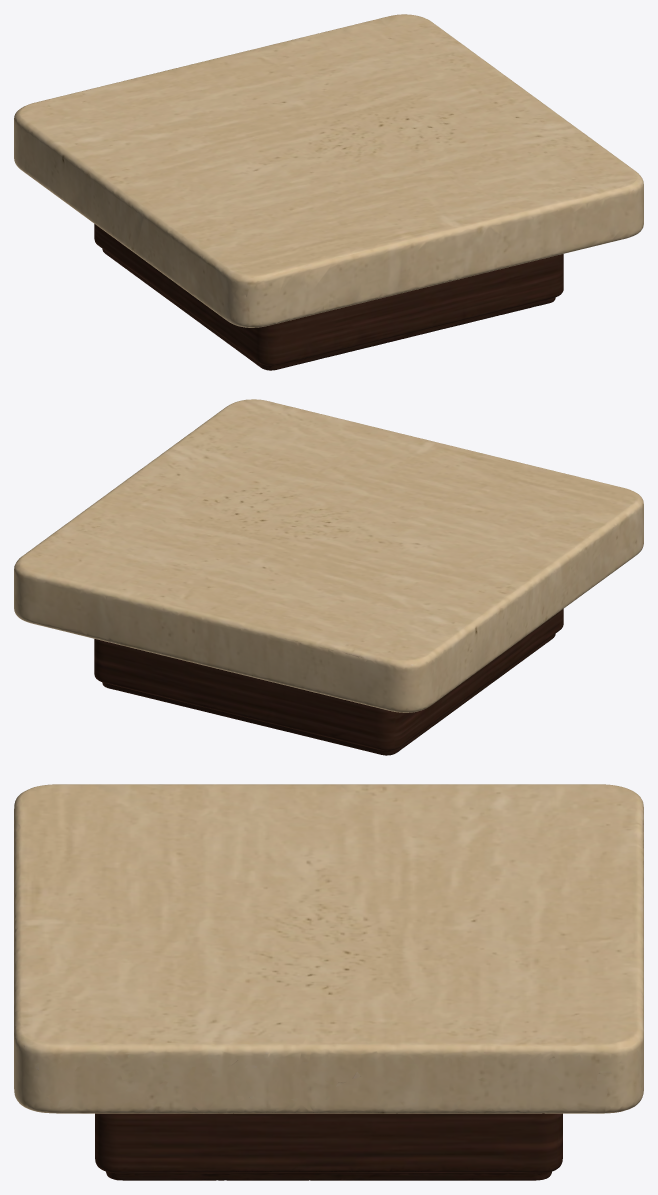
Rendered from travertine-coffee-table.glb.
3 renders of one model, top to bottom at view 1: azimuth 30°, elevation 25°; view 2: azimuth 150°, elevation 25°; view 3: azimuth 270°, elevation 25°, orthographic. The views are drawn at different scales.
Visible parts, largest first — view 1: world; view 2: world; view 3: world.
Part boxes in pixels (left/top/right/bottom): world: left=14, top=14, right=643, bottom=370; world: left=14, top=399, right=643, bottom=755; world: left=14, top=784, right=643, bottom=1180.
Bounding box in the file's own units: 1 × 0.3044 × 1.
Materials: 1 (1 with a texture image).
